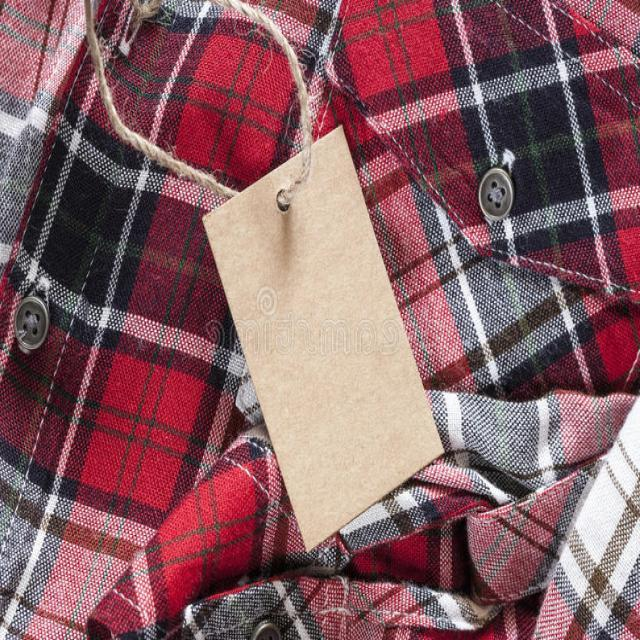clothes: (138, 43, 590, 590)
